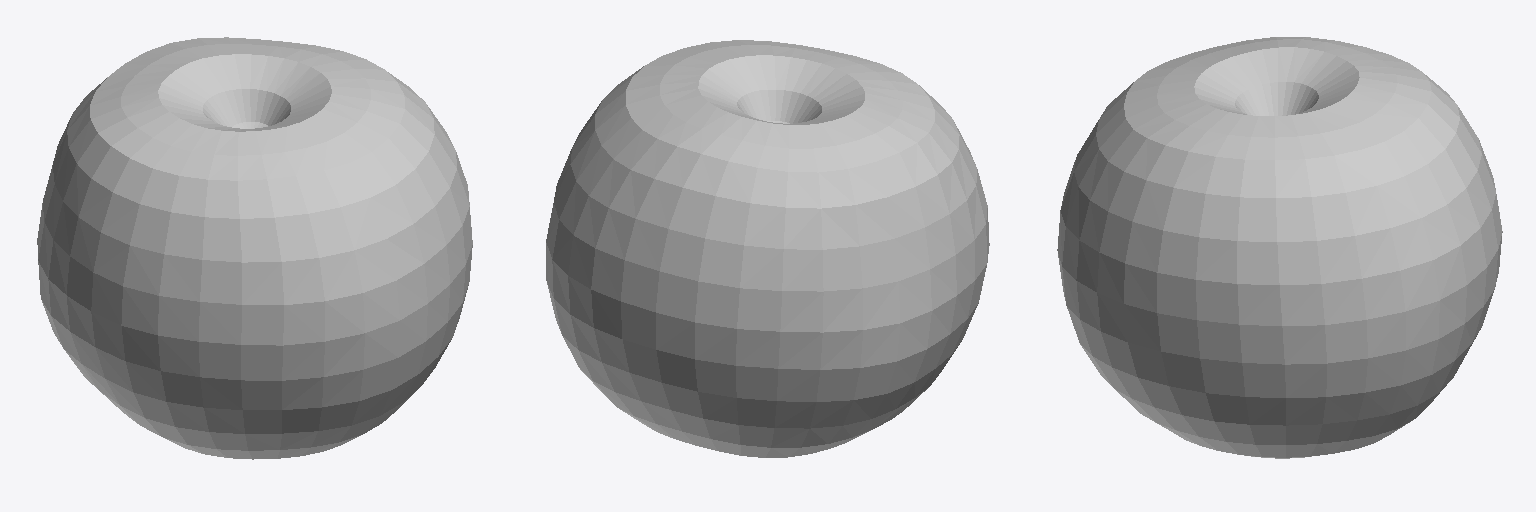
Rendered from apple.obj.
3 views of the same model, side by side, from view 1: azimuth 30°, elevation 25°; view 2: azimuth 150°, elevation 25°; view 3: azimuth 270°, elevation 25° (orthographic).
Parts seen in each view (by area): view 1: apple:polySurface5 apple:polySurface8 apple:polySurface1, apple:polySurface5 apple:polySurface10 apple:polySurface1; view 2: apple:polySurface5 apple:polySurface8 apple:polySurface1, apple:polySurface5 apple:polySurface10 apple:polySurface1; view 3: apple:polySurface5 apple:polySurface8 apple:polySurface1, apple:polySurface5 apple:polySurface10 apple:polySurface1.
Part boxes in pixels (bbox=[...]): apple:polySurface5 apple:polySurface8 apple:polySurface1: bbox=[37, 37, 472, 459]; apple:polySurface5 apple:polySurface10 apple:polySurface1: bbox=[37, 37, 472, 458]; apple:polySurface5 apple:polySurface8 apple:polySurface1: bbox=[546, 40, 989, 457]; apple:polySurface5 apple:polySurface10 apple:polySurface1: bbox=[546, 40, 989, 457]; apple:polySurface5 apple:polySurface8 apple:polySurface1: bbox=[1057, 37, 1501, 458]; apple:polySurface5 apple:polySurface10 apple:polySurface1: bbox=[1058, 37, 1502, 458].
Bounding box in the file's own units: 2.81 × 2.44 × 2.86.